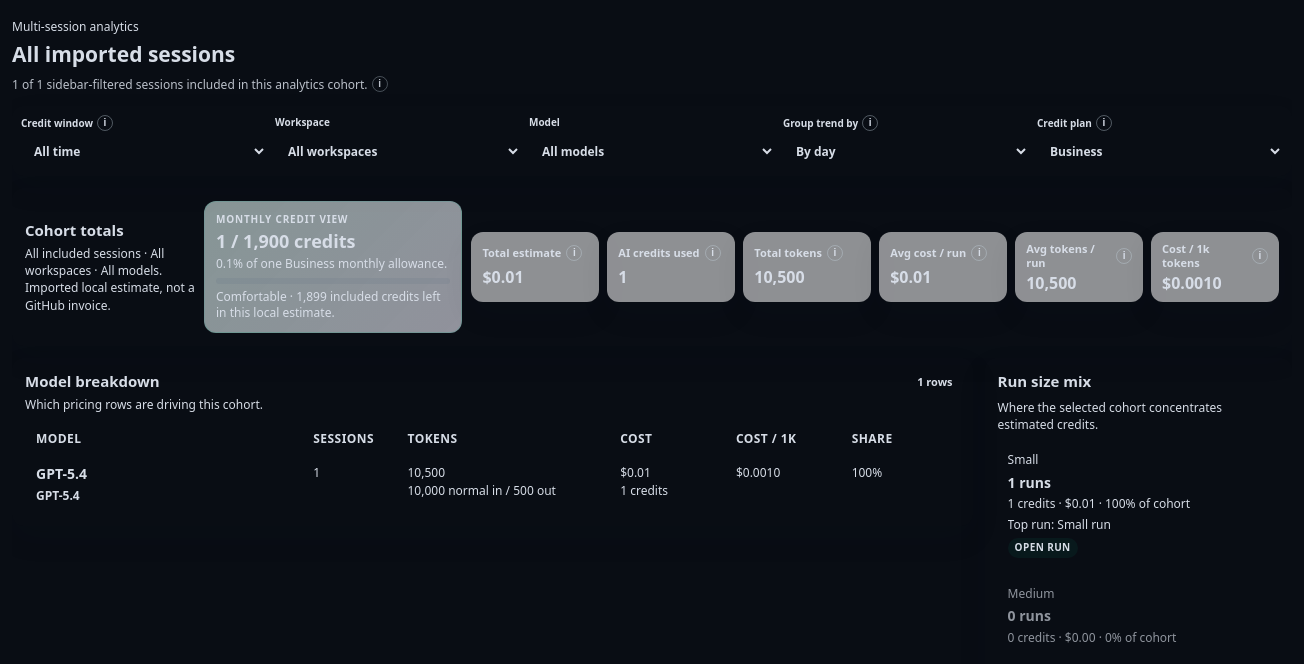
Test case: AnalyticsPageComponent › shows a resettable empty state when analytics controls exclude visible sessions
Select "missing-workspace" in the dropdown labelled "Workspace" at (398, 151), box x1=275 y1=135 x2=521 y2=167
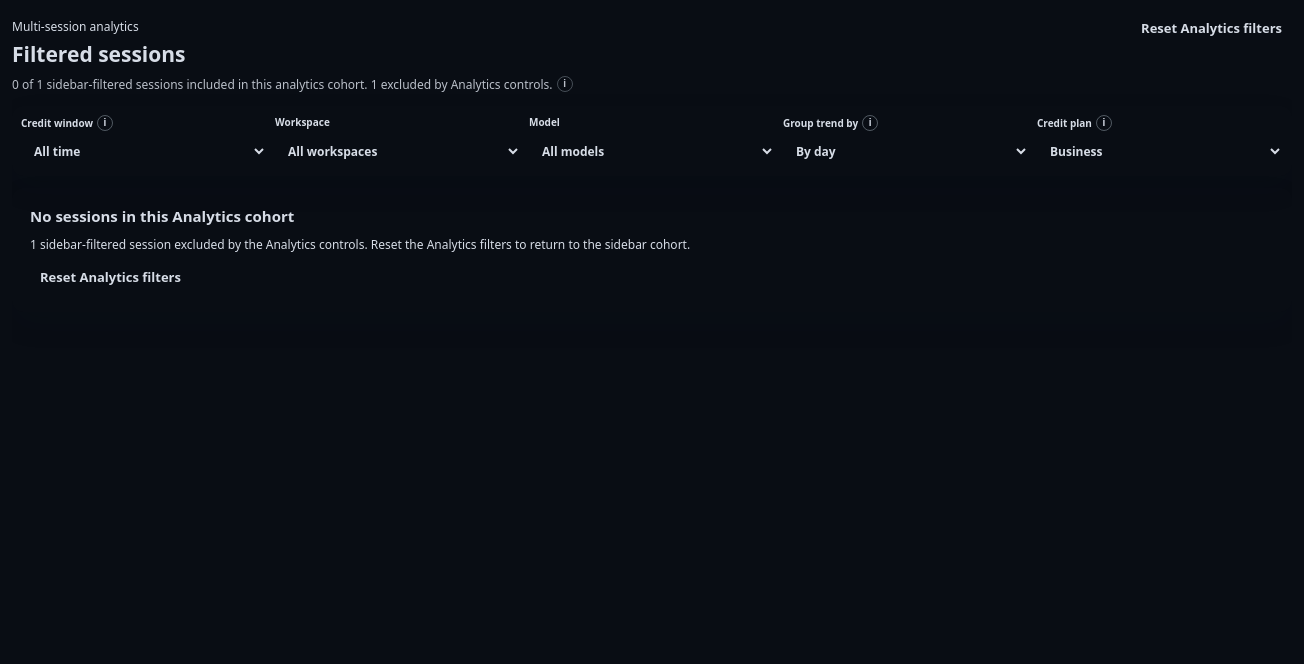
Now the text "No sessions in this Analytics cohort" is shown, box x1=30 y1=206 x2=294 y2=228
Now the text "Reset Analytics filters" is shown
Click the button "Reset Analytics filters" in the row of "Multi-session analytics" at (1212, 28), box x1=1131 y1=12 x2=1292 y2=45
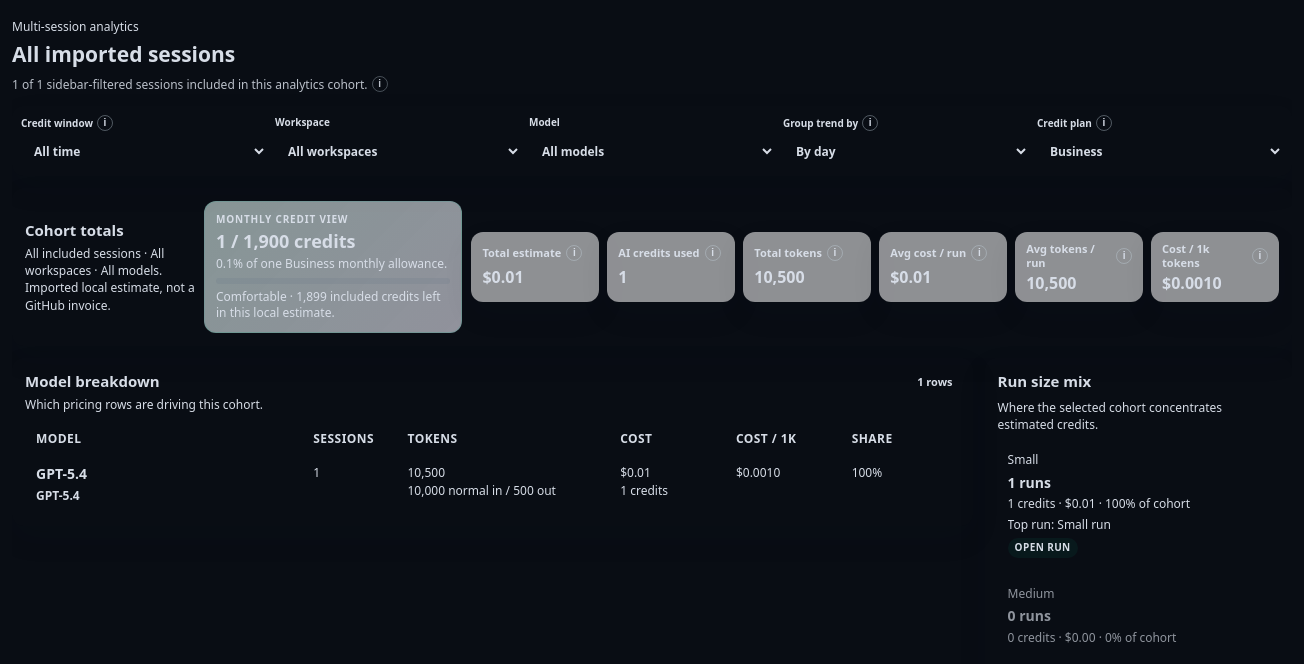
Now the text "Model breakdown" is shown, box x1=25 y1=371 x2=160 y2=391
